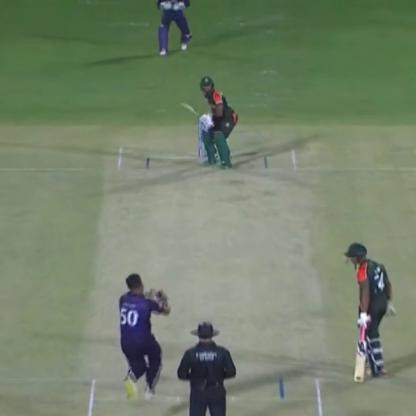bat: (166, 90, 221, 132)
pitch: (86, 141, 327, 415)
